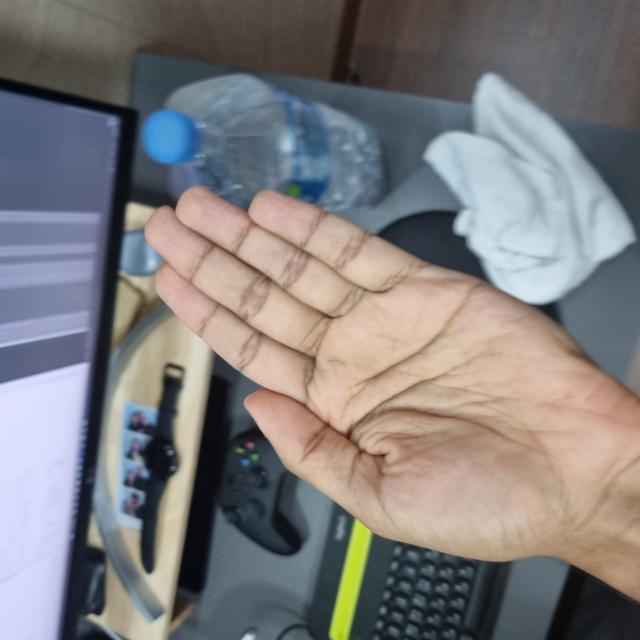Paper: (77, 253, 352, 638)
